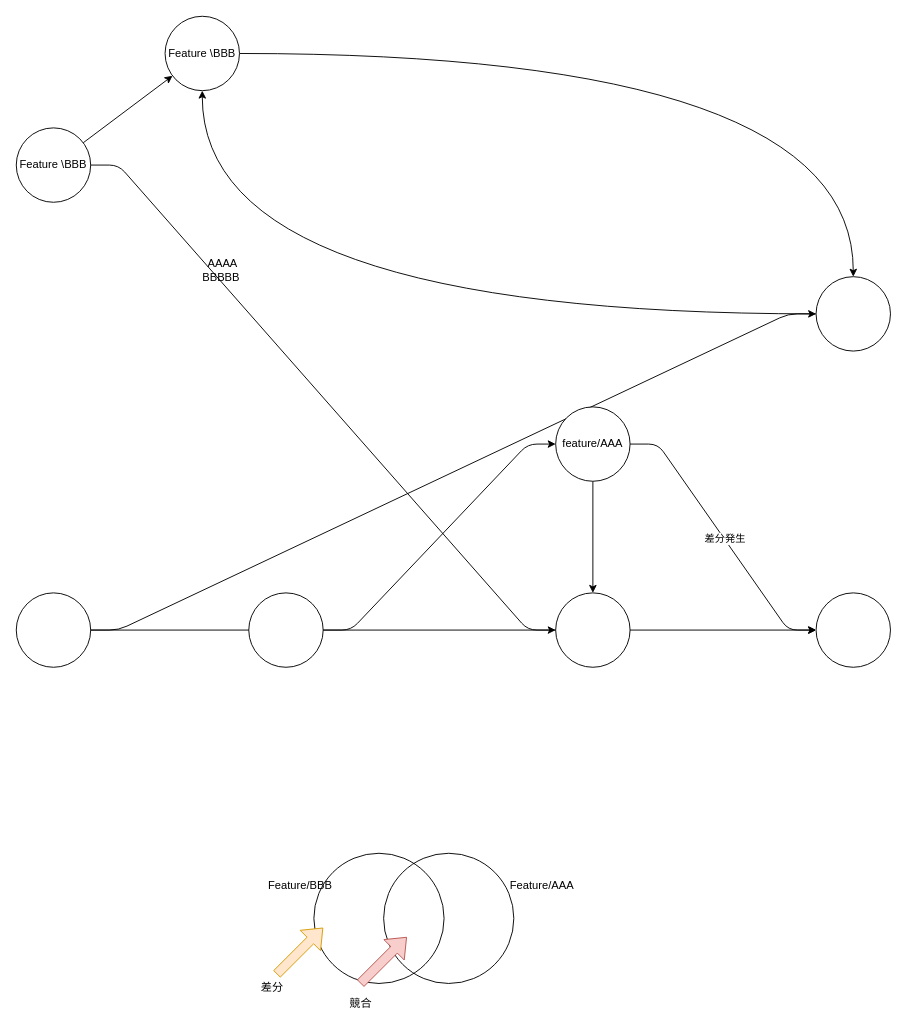
The diagram is 907 pixels wide and 1034 high, and some of its shapes have lost their labels. Here are the shapes that lost their labels. From the top down, the box of each, then its label:
(815, 276, 890, 351): staging
(815, 592, 890, 667): master
